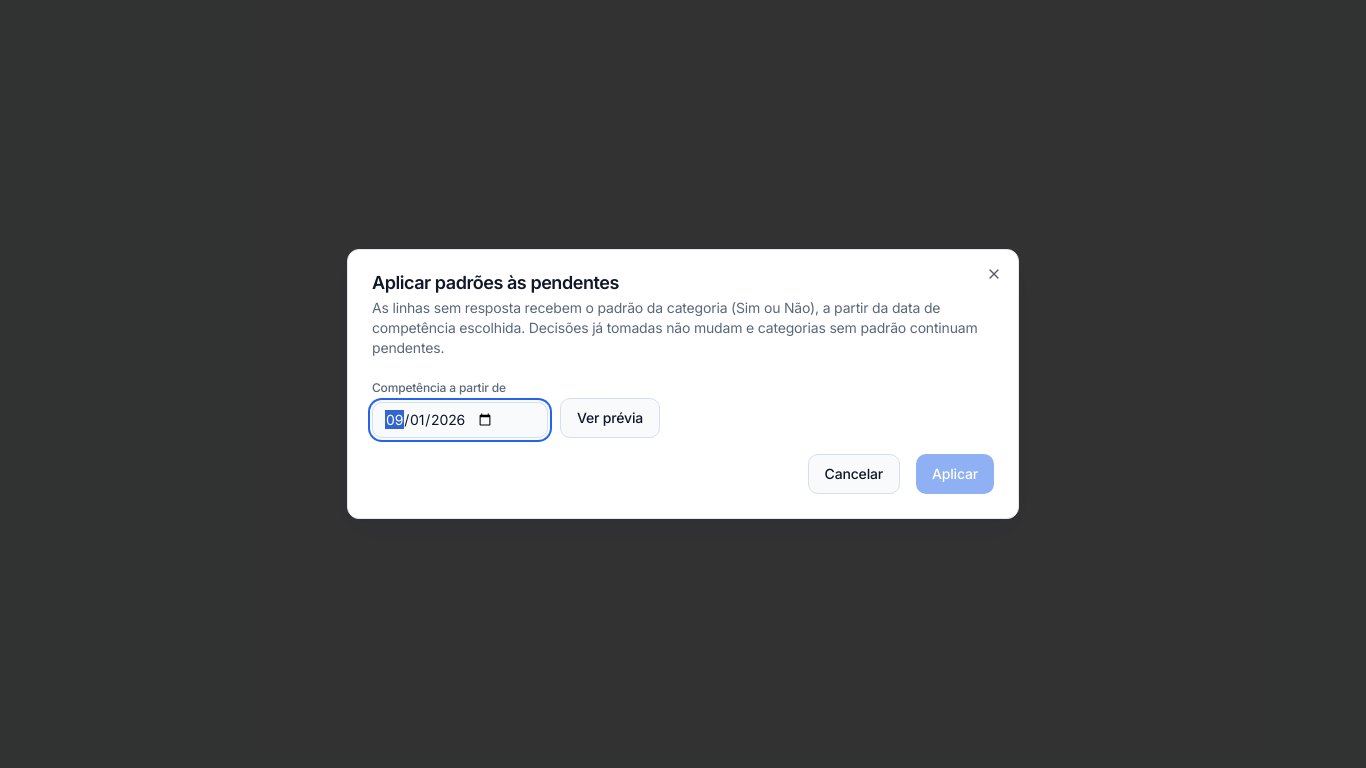
Scenario: Aplicar padrões às pendentes › sem nenhuma linha para mudar não pede justificativa nem libera o Aplicar
Click the button "Ver prévia" at (610, 418), box top-left (560, 398), bottom-right (660, 438)
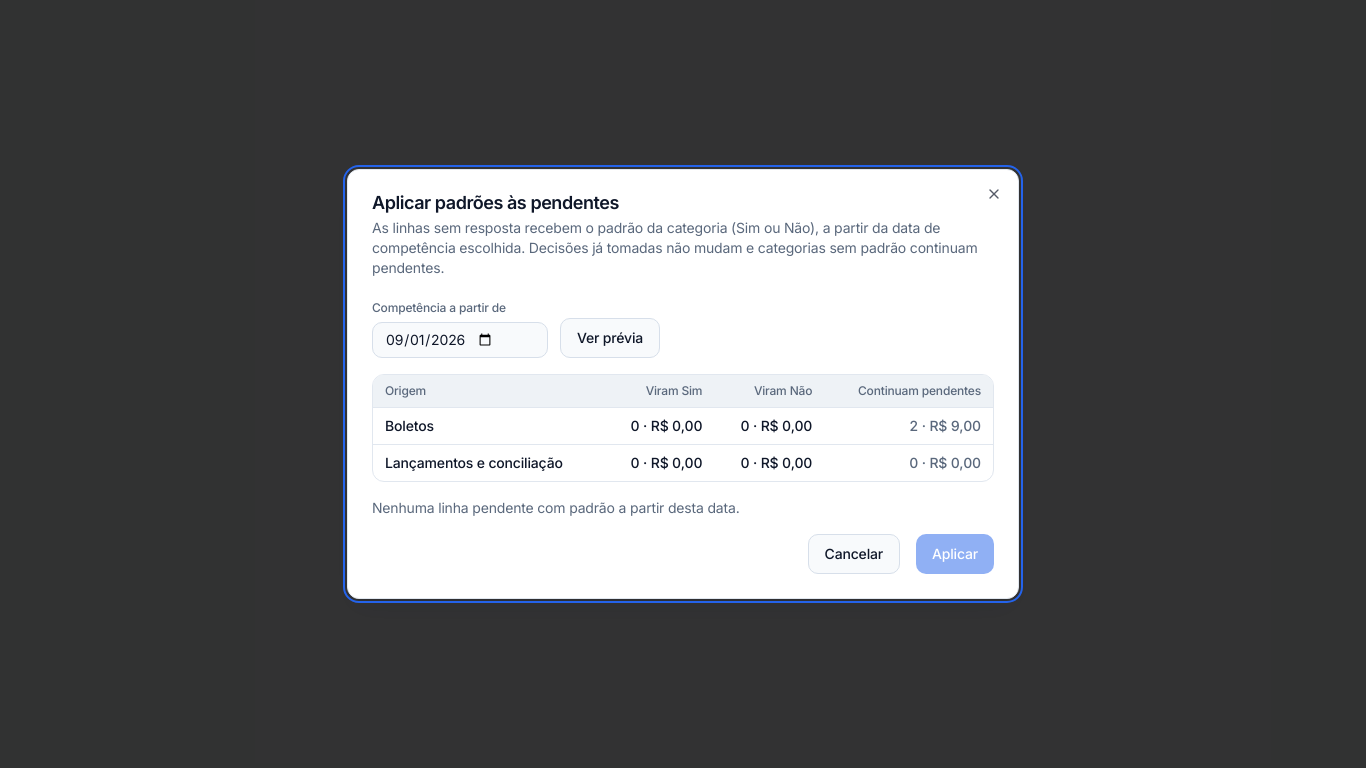
Expected: the button "Aplicar" is disabled, top-left (916, 534), bottom-right (994, 574)
Expected: the text "Nenhuma linha pendente com padrão a partir desta data." is shown, top-left (372, 499), bottom-right (740, 516)
